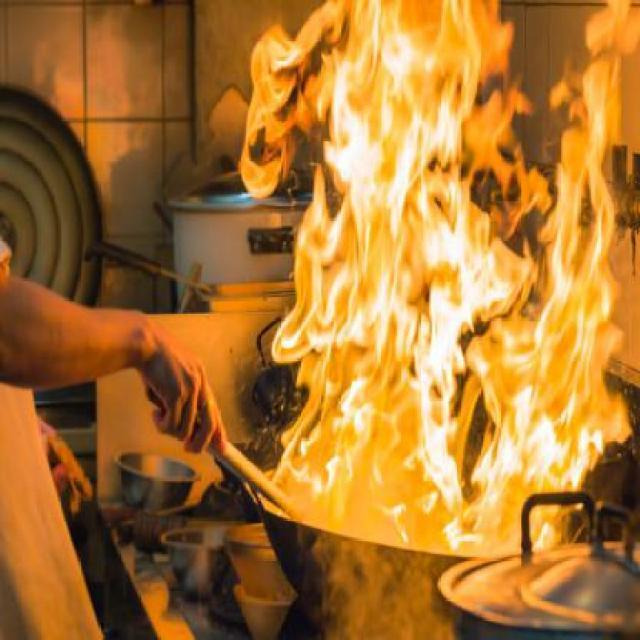Fire: (245, 0, 640, 553)
Smoke: (74, 0, 258, 307), (282, 488, 528, 640), (450, 0, 615, 185)
